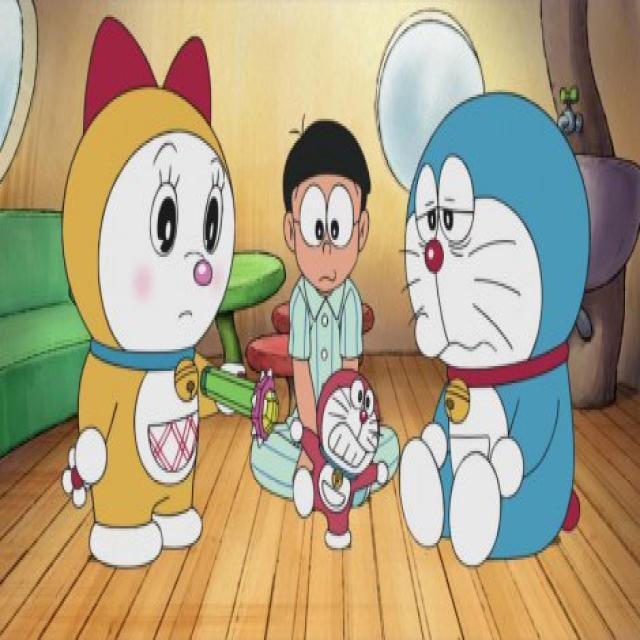doraemon: (390, 75, 608, 473)
nobita: (267, 105, 376, 328)
shizuka: (272, 92, 378, 313)
